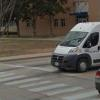Crosswalk: (1, 61, 84, 100)
